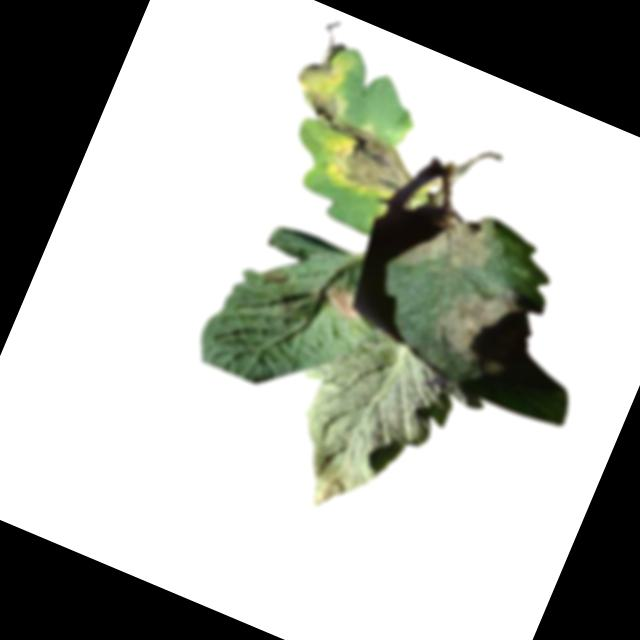Late_blight: (395, 188, 508, 297), (419, 271, 532, 378), (316, 118, 426, 211), (282, 32, 367, 132), (314, 280, 368, 325), (256, 262, 289, 290)
healthy: (255, 309, 495, 551)
